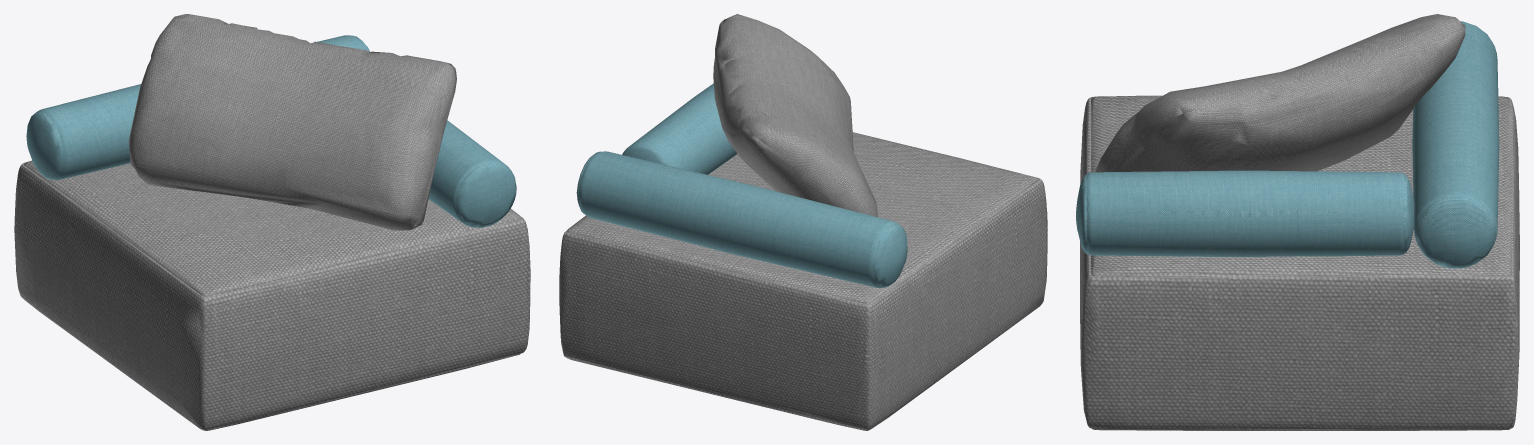
The model's file is Sofa 1.FBX.
3 renders of one model, left to right at view 1: azimuth 30°, elevation 25°; view 2: azimuth 150°, elevation 25°; view 3: azimuth 270°, elevation 25°, orthographic. The views are drawn at different scales.
Visible parts, largest first — view 1: sofa 1; view 2: sofa 1; view 3: sofa 1.
Part boxes in pixels (x1,y1,x2,y2): sofa 1: [14, 14, 530, 430]; sofa 1: [559, 14, 1047, 430]; sofa 1: [1076, 14, 1519, 430].
Size of the model in its own units: 102 by 79.82 by 101.
2 materials, 2 textured.
